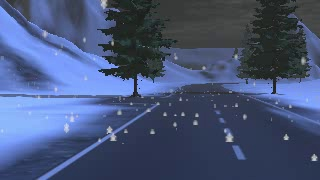Lane: (47, 82, 319, 179)
